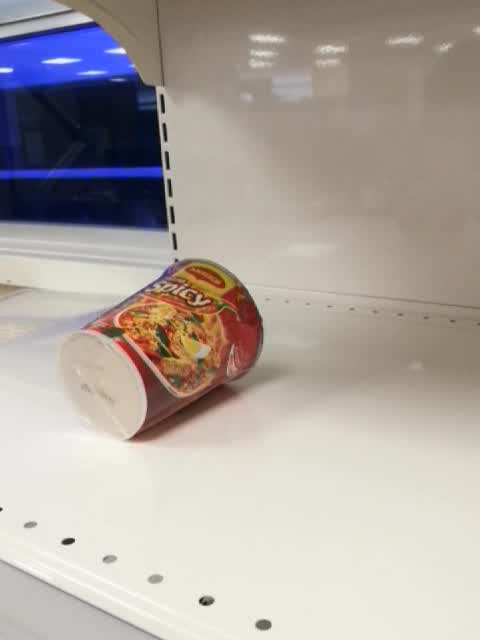maggi: (59, 257, 264, 441)
